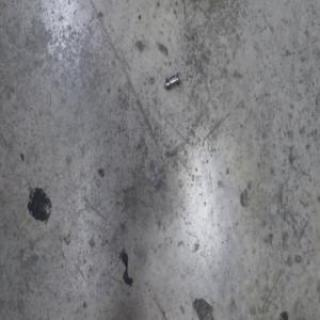Bolttrack_idkeyframe: (164, 70, 180, 90)
